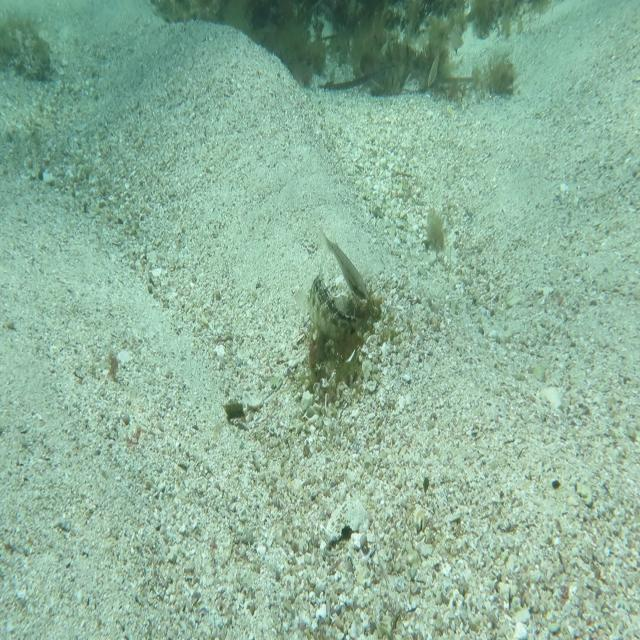DAN_CIRC: (305, 262, 370, 352)
female: (314, 224, 374, 306)
nest: (292, 286, 384, 412)
vegetation: (148, 0, 542, 37), (257, 38, 466, 86), (423, 211, 449, 256), (220, 394, 242, 426)
